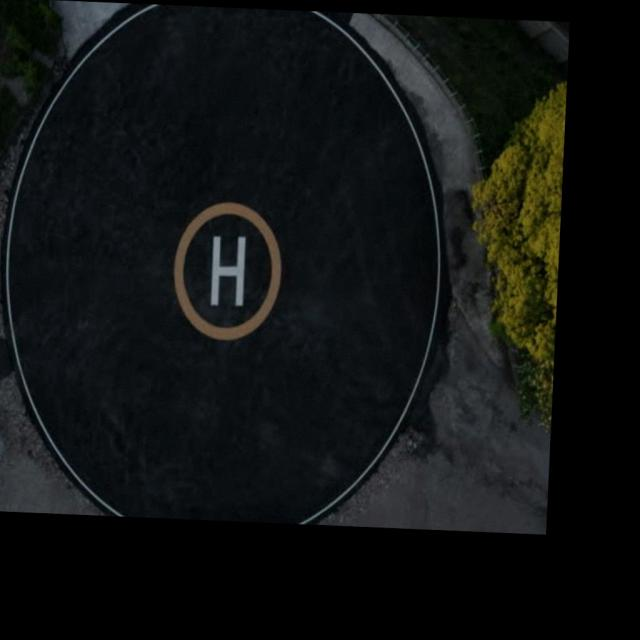helipad: (171, 199, 283, 344)
